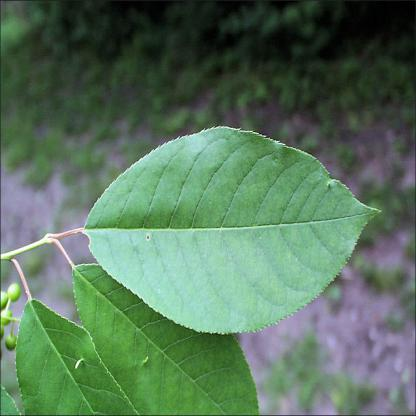Cherry leaf: (83, 121, 393, 337), (70, 262, 261, 415), (15, 296, 140, 415)
